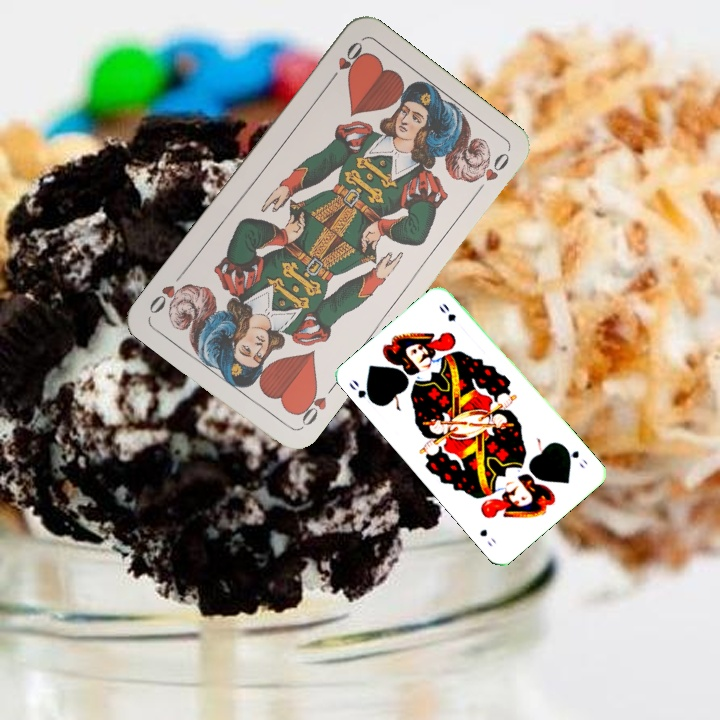GO: (345, 375, 379, 407), (560, 442, 590, 472)
HO: (324, 37, 366, 88), (291, 382, 330, 431)
